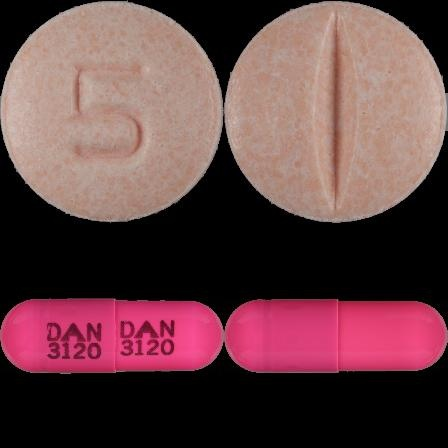55289-884: (0, 0, 224, 224)
